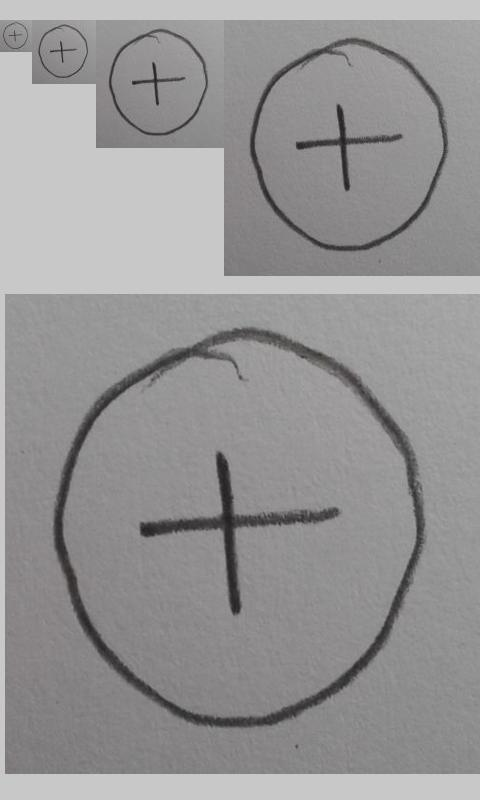button: (50, 326, 428, 728), (250, 37, 449, 251), (108, 28, 210, 136), (38, 24, 88, 79), (2, 22, 28, 50)
